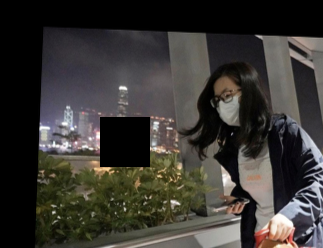with_mask: (212, 86, 241, 125)
